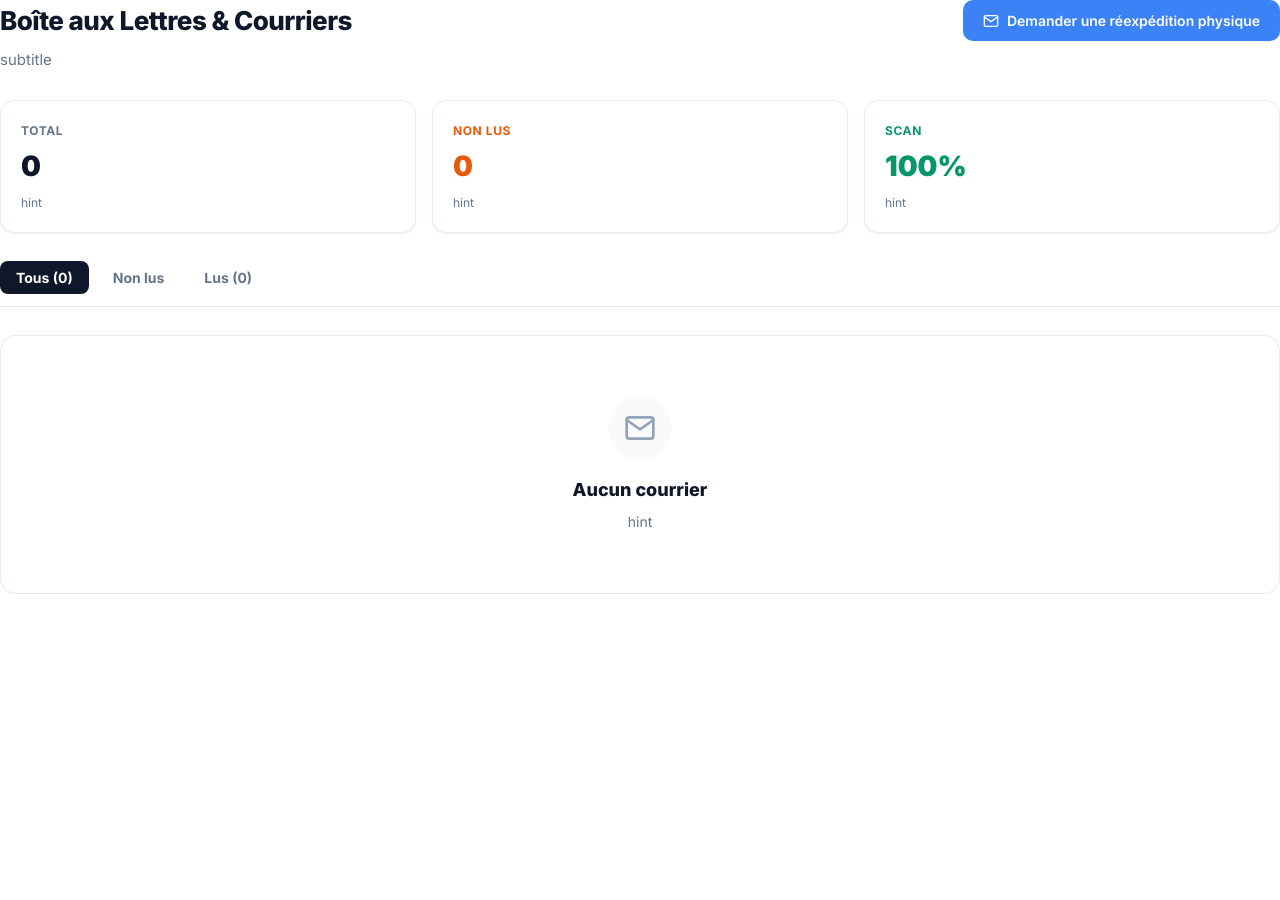
Scenario: Mail — réexpédition physique › ne préremplit pas avec l’adresse personnelle
This screenshot has width=1280, height=900.
Click the button "Demander une réexpédition physique". click: (1122, 20)
box: [963,0,1279,41]
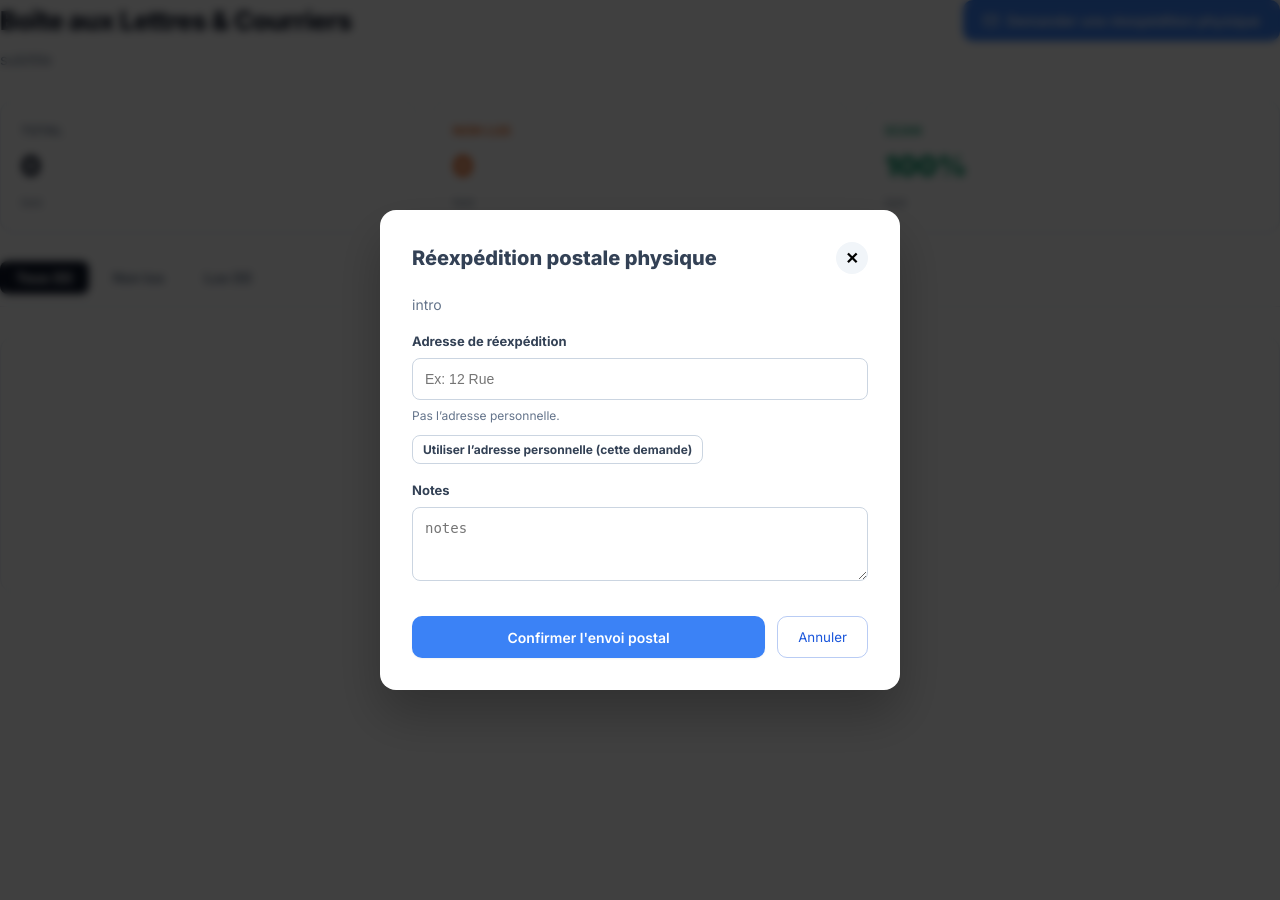
Expected: the field with placeholder "Ex: 12 Rue" is empty, [412,358,868,400]
Expected: the button "Utiliser l’adresse personnelle (cette demande)" is shown, [412,435,703,464]
